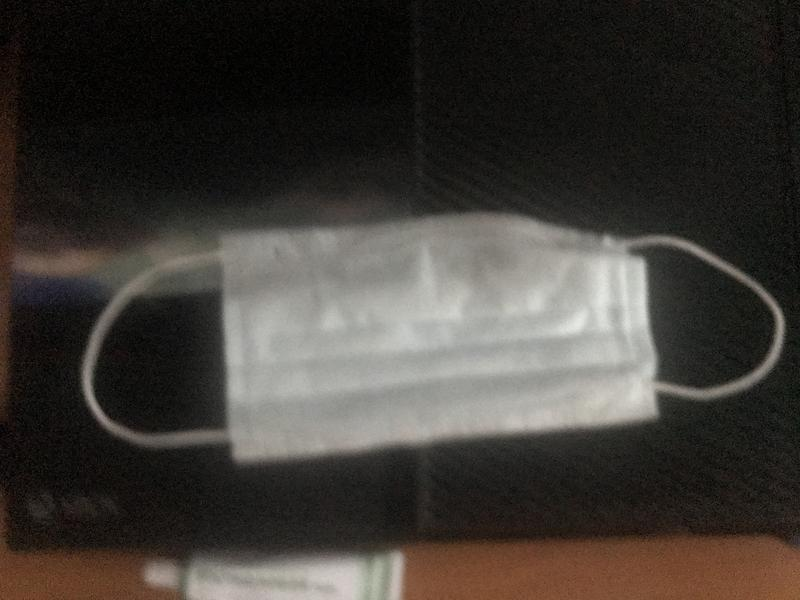medical_mask: (82, 211, 780, 466)
